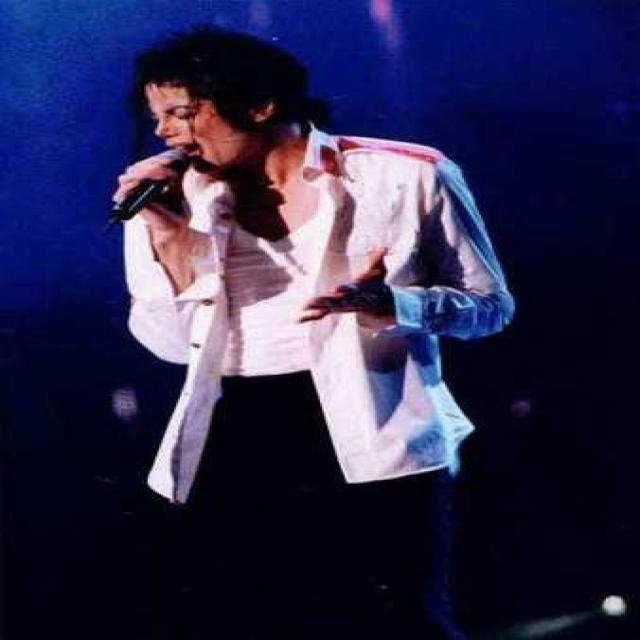microphone: (101, 139, 207, 232)
